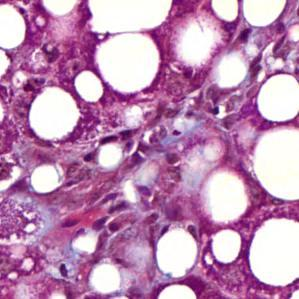steatosis: (95, 36, 166, 94), (25, 84, 81, 142), (155, 227, 207, 280), (258, 75, 299, 122)
